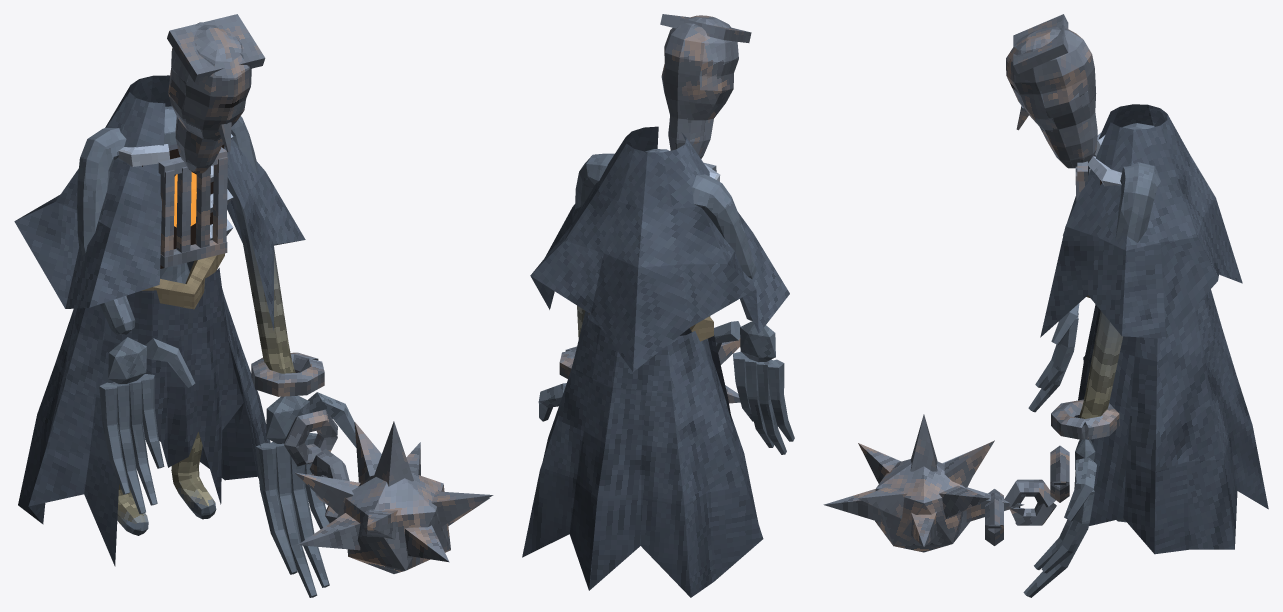
File: blind_censer_bearer.glb
The picture shows the model from 3 angles, left to right: view 1: azimuth 30°, elevation 25°; view 2: azimuth 150°, elevation 25°; view 3: azimuth 270°, elevation 25°; orthographic projection. The views are drawn at different scales.
Visible parts, largest first — view 1: blind_censer_bearer; view 2: blind_censer_bearer; view 3: blind_censer_bearer.
Part boxes in pixels (bbox=[...]): blind_censer_bearer: bbox=[14, 14, 493, 597]; blind_censer_bearer: bbox=[522, 14, 794, 597]; blind_censer_bearer: bbox=[823, 14, 1268, 597].
Bounding box in the file's own units: 1.4 × 2.31 × 1.77.
2 materials, 1 textured.
